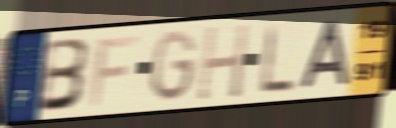A: (298, 18, 353, 92)
B: (35, 36, 93, 116)
F: (87, 32, 142, 109)
G: (149, 28, 200, 105)
H: (194, 22, 252, 104)
L: (259, 20, 296, 97)
